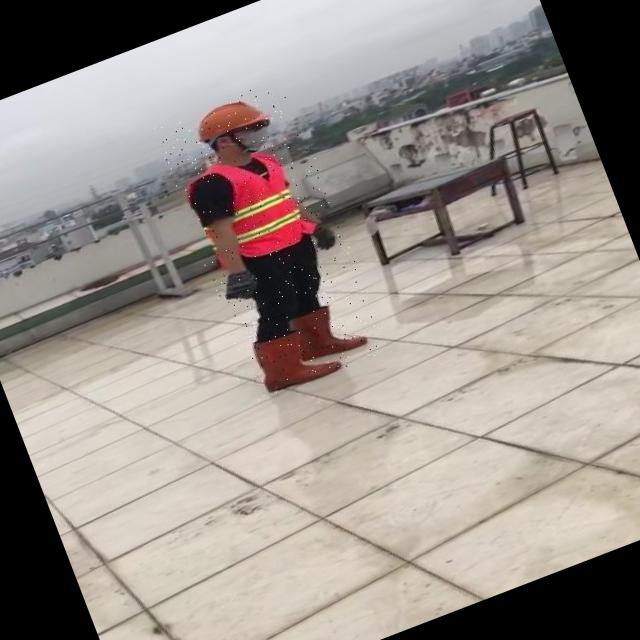hard_hat: (186, 88, 273, 146)
safety_vest: (182, 138, 323, 270)
vehicle: (151, 76, 390, 402)
work_boots: (247, 318, 341, 398), (283, 288, 367, 367)
